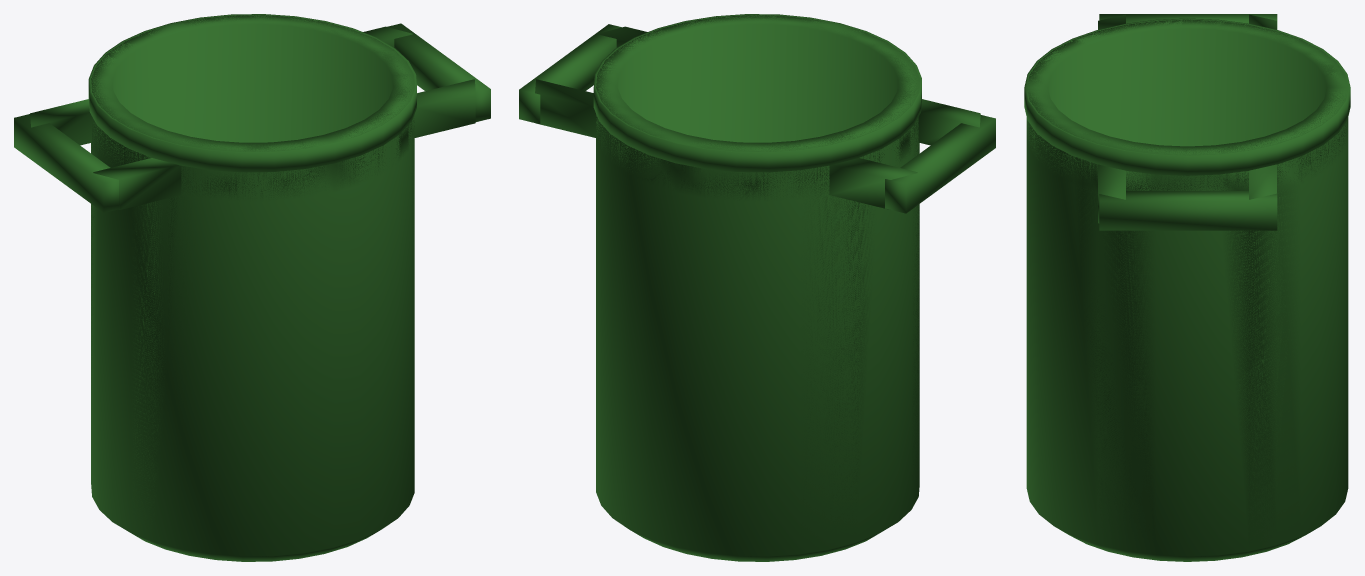
The model's file is Trashcan_2.fbx.
The picture shows the model from 3 angles, left to right: view 1: azimuth 30°, elevation 25°; view 2: azimuth 150°, elevation 25°; view 3: azimuth 270°, elevation 25°; orthographic projection.
Visible parts, largest first — view 1: Trashcan; view 2: Trashcan; view 3: Trashcan.
Boxes of the visible parts, x1,y1,x2,y2 form: Trashcan: (14,14,490,561); Trashcan: (519,14,995,561); Trashcan: (1024,14,1350,561).
Size of the model in its own units: 132 by 136 by 97.38.
